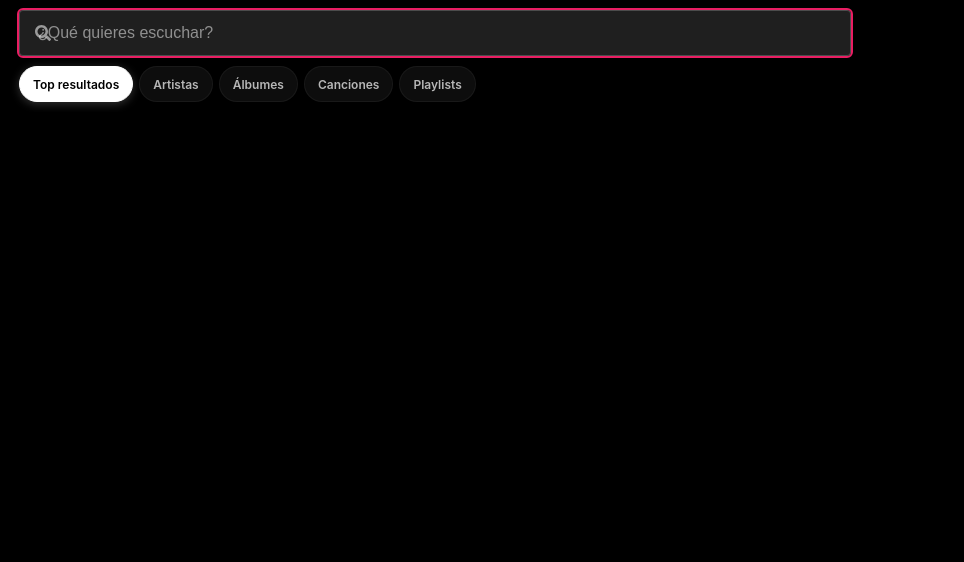
Test case: Búsqueda y reproducción esenciales › consulta cada filtro con su propia caché y una cantidad útil de resultados
Type "Luz" into the search field named "Buscar música" at (435, 33), box [19, 10, 851, 56]
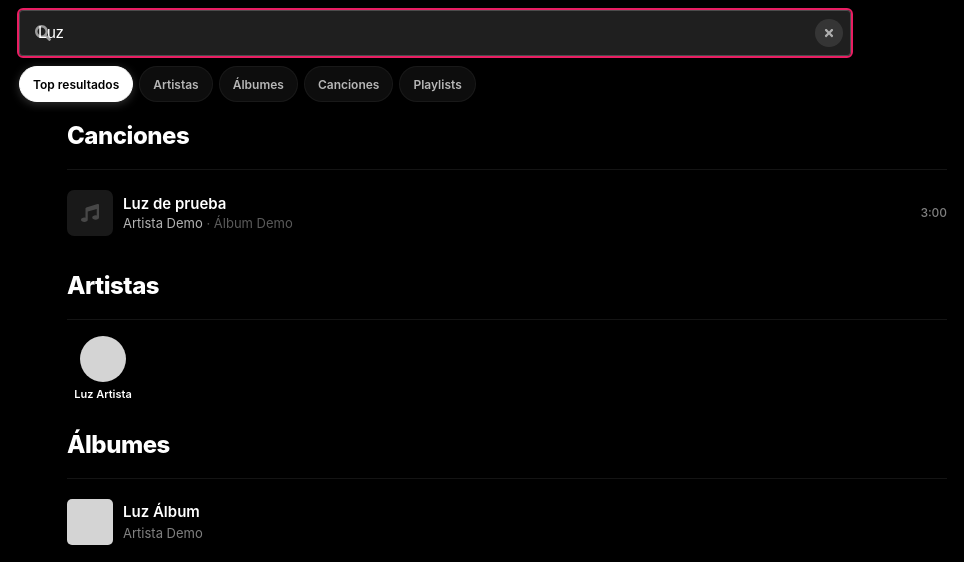
Expected: the text "Luz de prueba" is shown, [123, 194, 226, 213]
Click the button "Artistas" at (176, 84), box [139, 66, 213, 102]
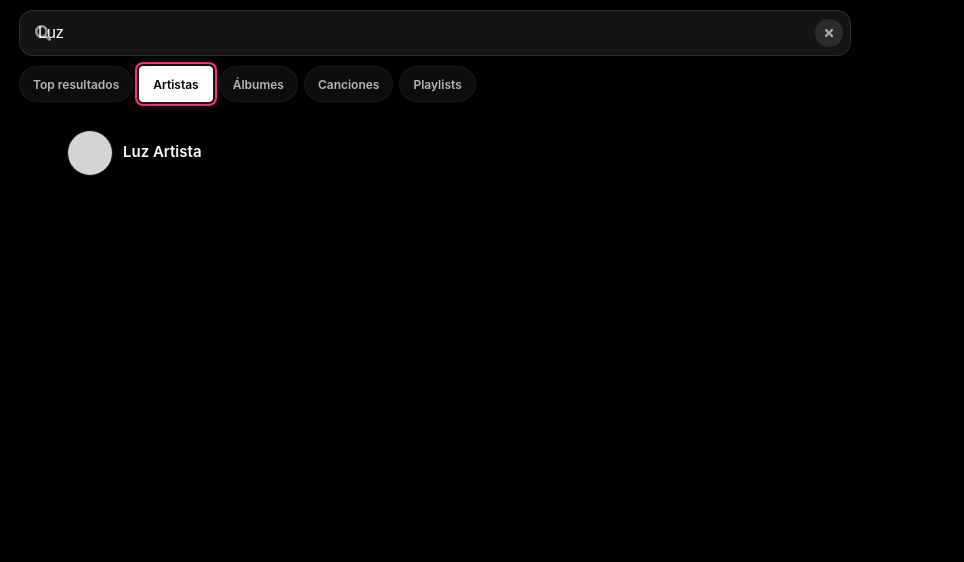
Expected: the text "Luz Artista" is shown, [123, 142, 202, 161]
Click the button "Álbumes" at (258, 84), box [219, 66, 298, 102]
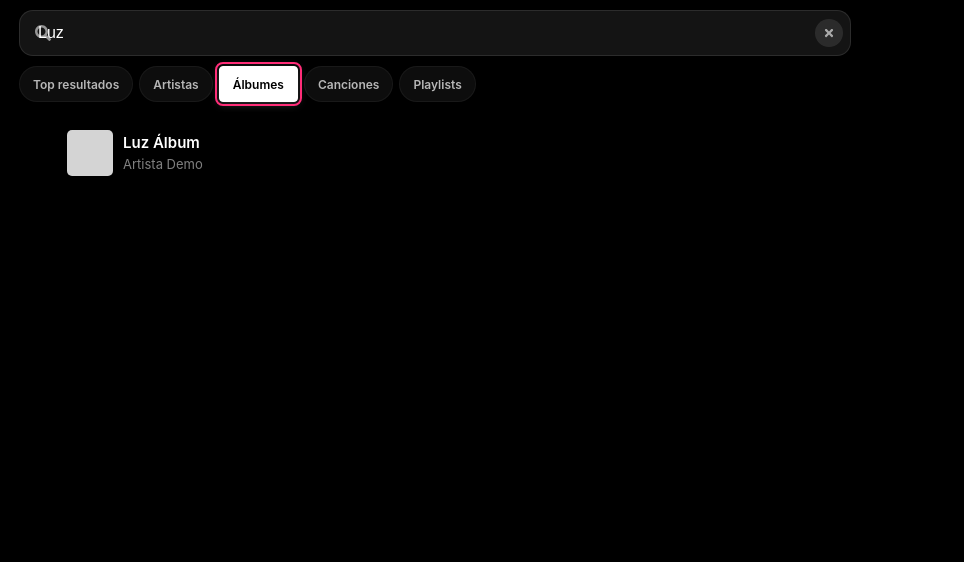
Expected: the text "Luz Álbum" is shown, [123, 133, 200, 152]
